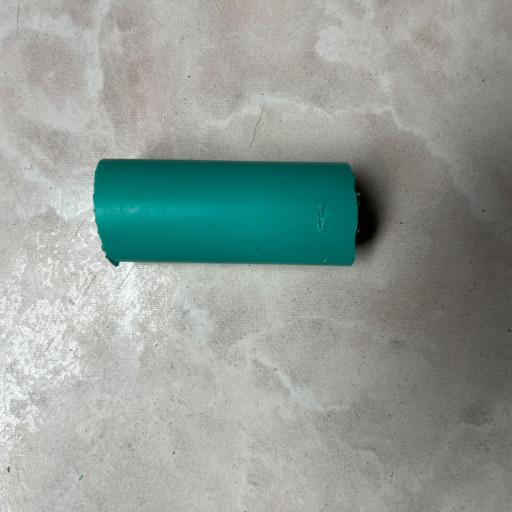PVC: (90, 142, 398, 297)
